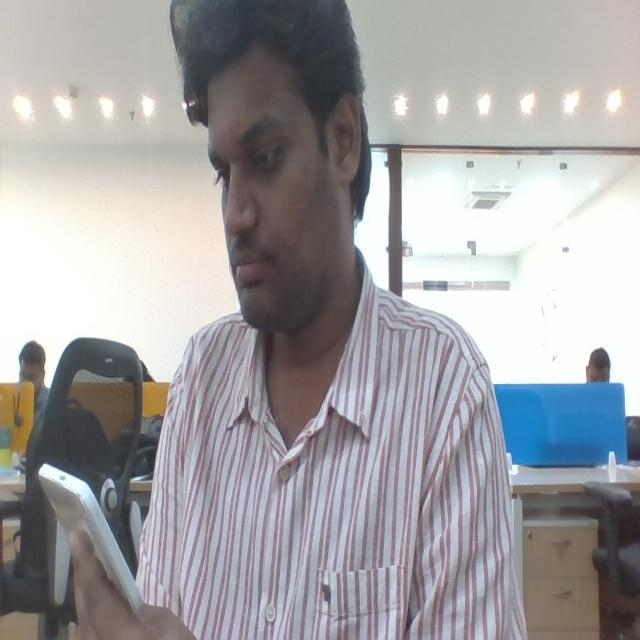phone: (37, 462, 115, 556)
